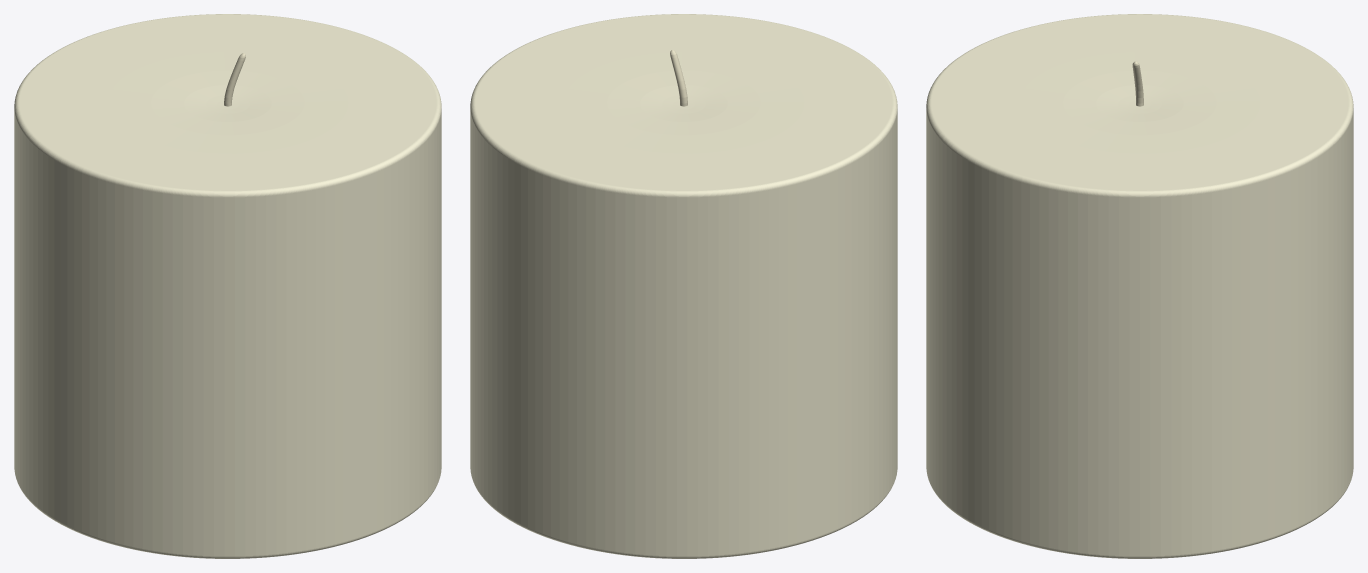
The picture shows the model from 3 angles, left to right: view 1: azimuth 30°, elevation 25°; view 2: azimuth 150°, elevation 25°; view 3: azimuth 270°, elevation 25°; orthographic projection.
Visible parts, largest first — view 1: Wax body; view 2: Wax body; view 3: Wax body.
Boxes of the visible parts, box(x1,y1,x2,y2) form: Wax body: box(14, 14, 441, 558); Wax body: box(470, 14, 897, 558); Wax body: box(926, 14, 1353, 558).
Size of the model in its own units: 0.078 by 0.0836 by 0.078.
